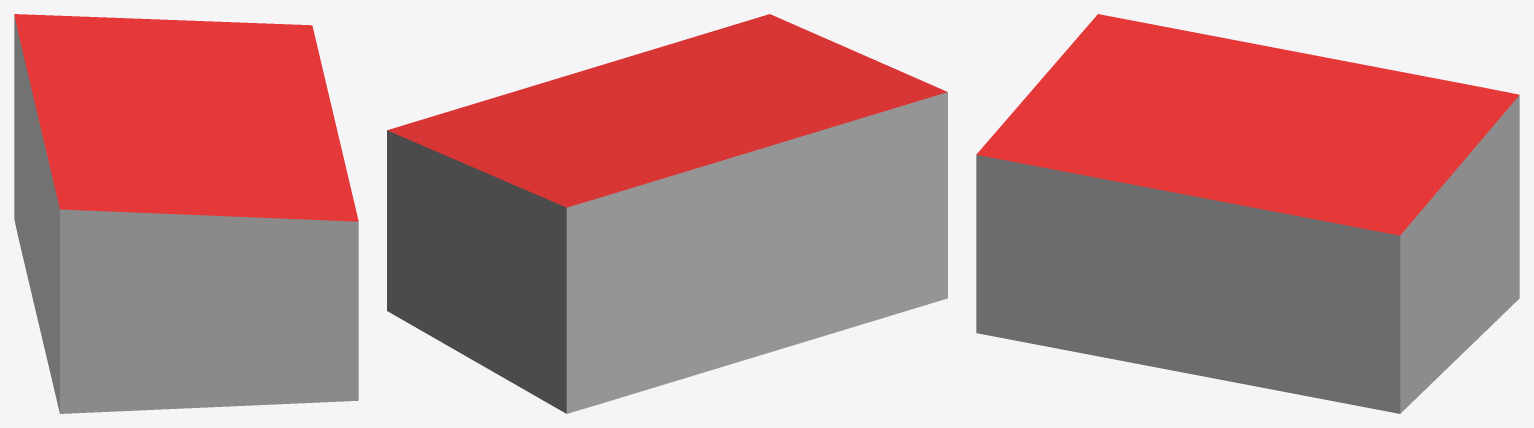
File: DEBY_LOD2_4908131.dae
3 renders of one model, left to right at view 1: azimuth 30°, elevation 25°; view 2: azimuth 150°, elevation 25°; view 3: azimuth 270°, elevation 25°, orthographic.
Size of the model in its own units: 8.35 by 9.77 by 4.04.
